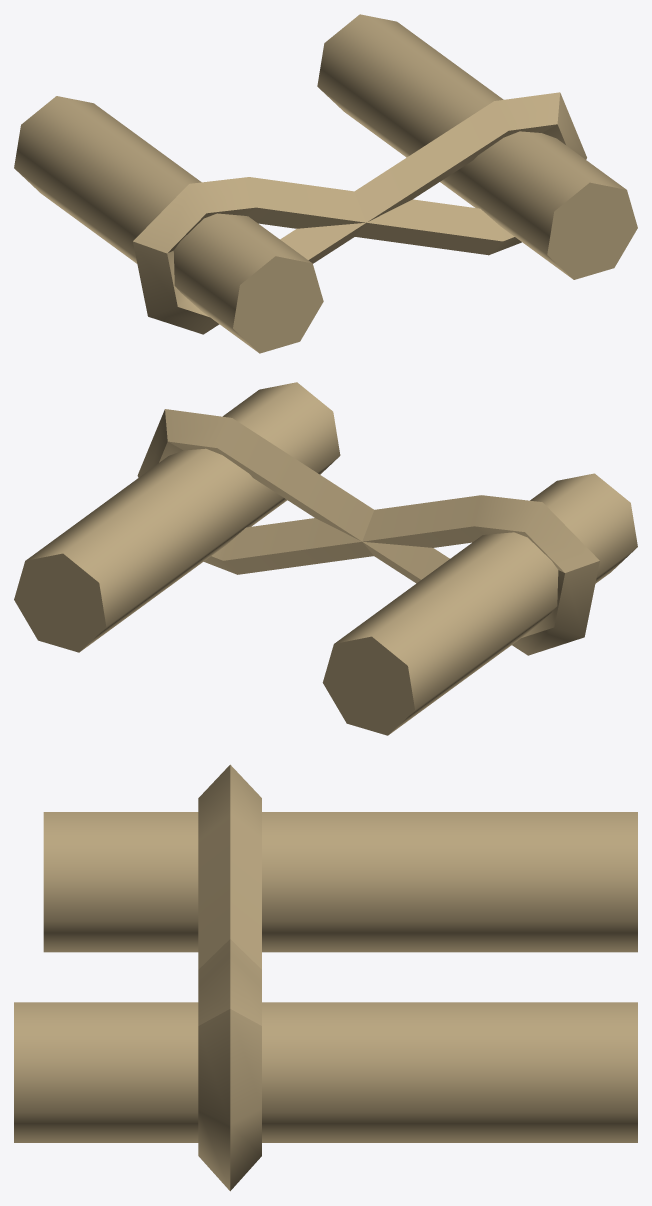
The model's file is bridge_sport.fbx.
3 renders of one model, top to bottom at view 1: azimuth 30°, elevation 25°; view 2: azimuth 150°, elevation 25°; view 3: azimuth 270°, elevation 25°, orthographic. The views are drawn at different scales.
Visible parts, largest first — view 1: bridge_sport; view 2: bridge_sport; view 3: bridge_sport.
Boxes of the visible parts, x1,y1,x2,y2 form: bridge_sport: (14, 14, 637, 353); bridge_sport: (14, 382, 637, 735); bridge_sport: (14, 764, 637, 1191).
Bounding box in the file's own units: 55.99 × 19.15 × 49.08.
